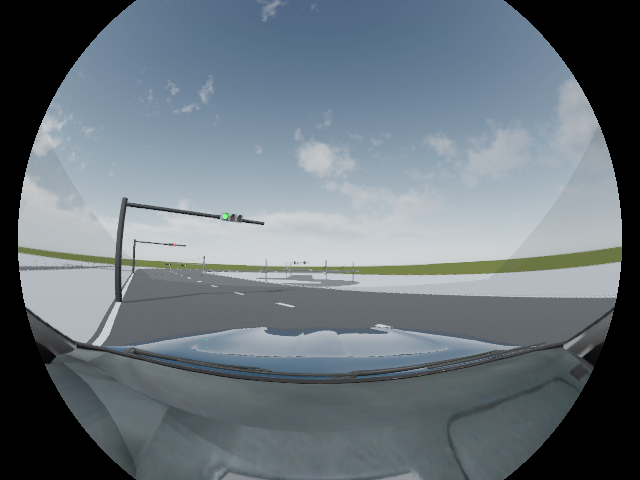Green Light: (221, 211, 245, 224)
